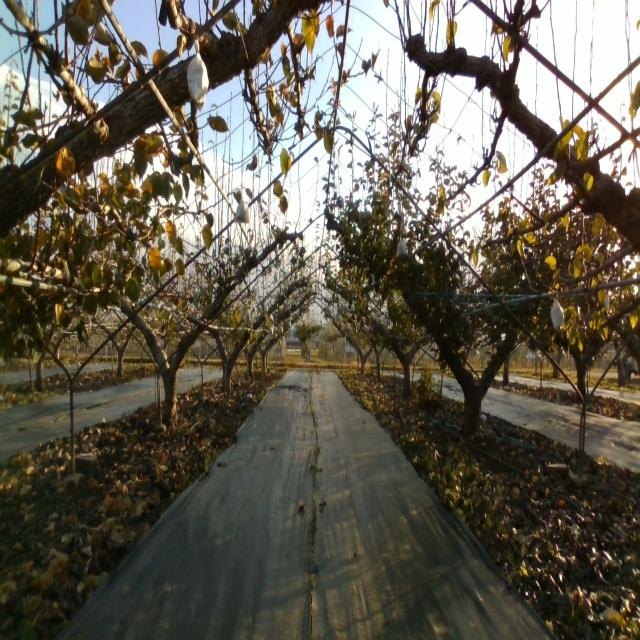pearbags: (187, 41, 209, 110), (550, 299, 565, 329), (234, 202, 252, 223), (396, 238, 409, 258)
